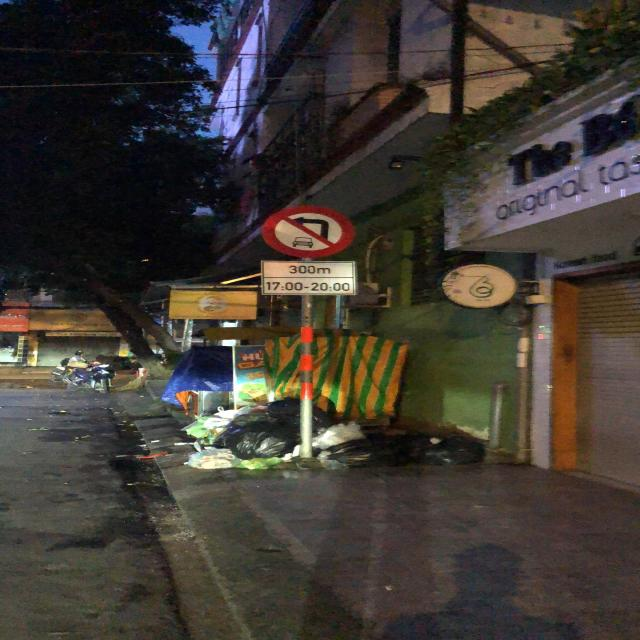Bien bao cam xe o to re trai: (254, 204, 352, 258)
